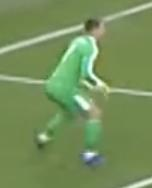goalkeeper: (28, 7, 130, 168)
